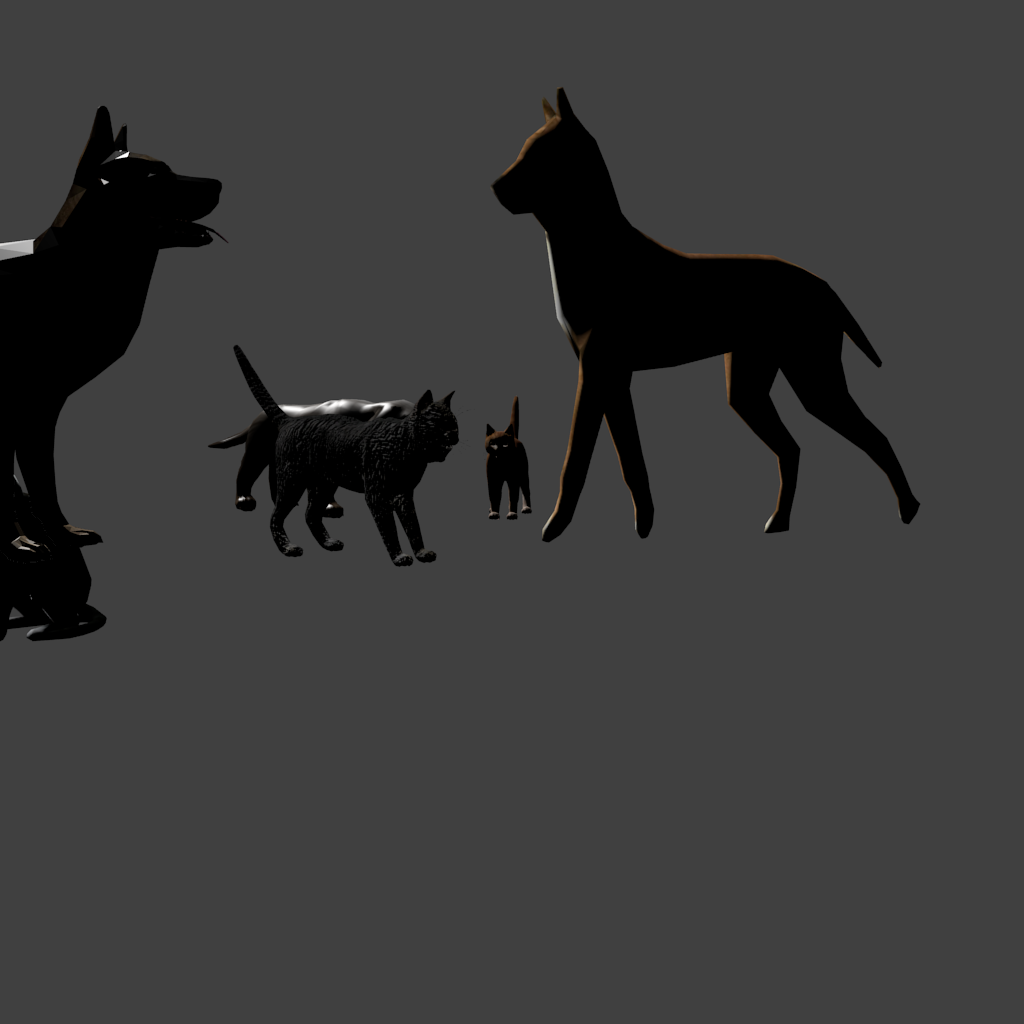Dog: (0, 106, 229, 458)
